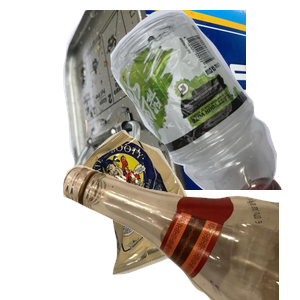glass: (60, 120, 300, 300)
metal: (60, 10, 300, 190)
plastic: (73, 10, 300, 190)
trash: (61, 127, 260, 300)
